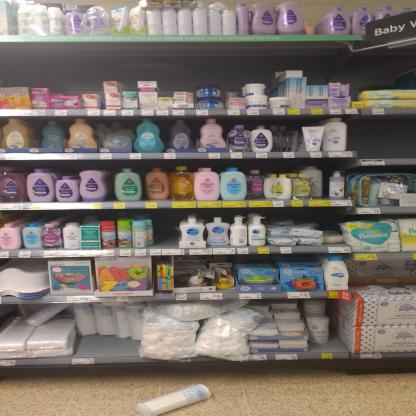Void: (349, 116, 415, 159), (75, 336, 138, 356), (270, 208, 342, 222), (155, 210, 180, 250), (318, 342, 345, 350)
